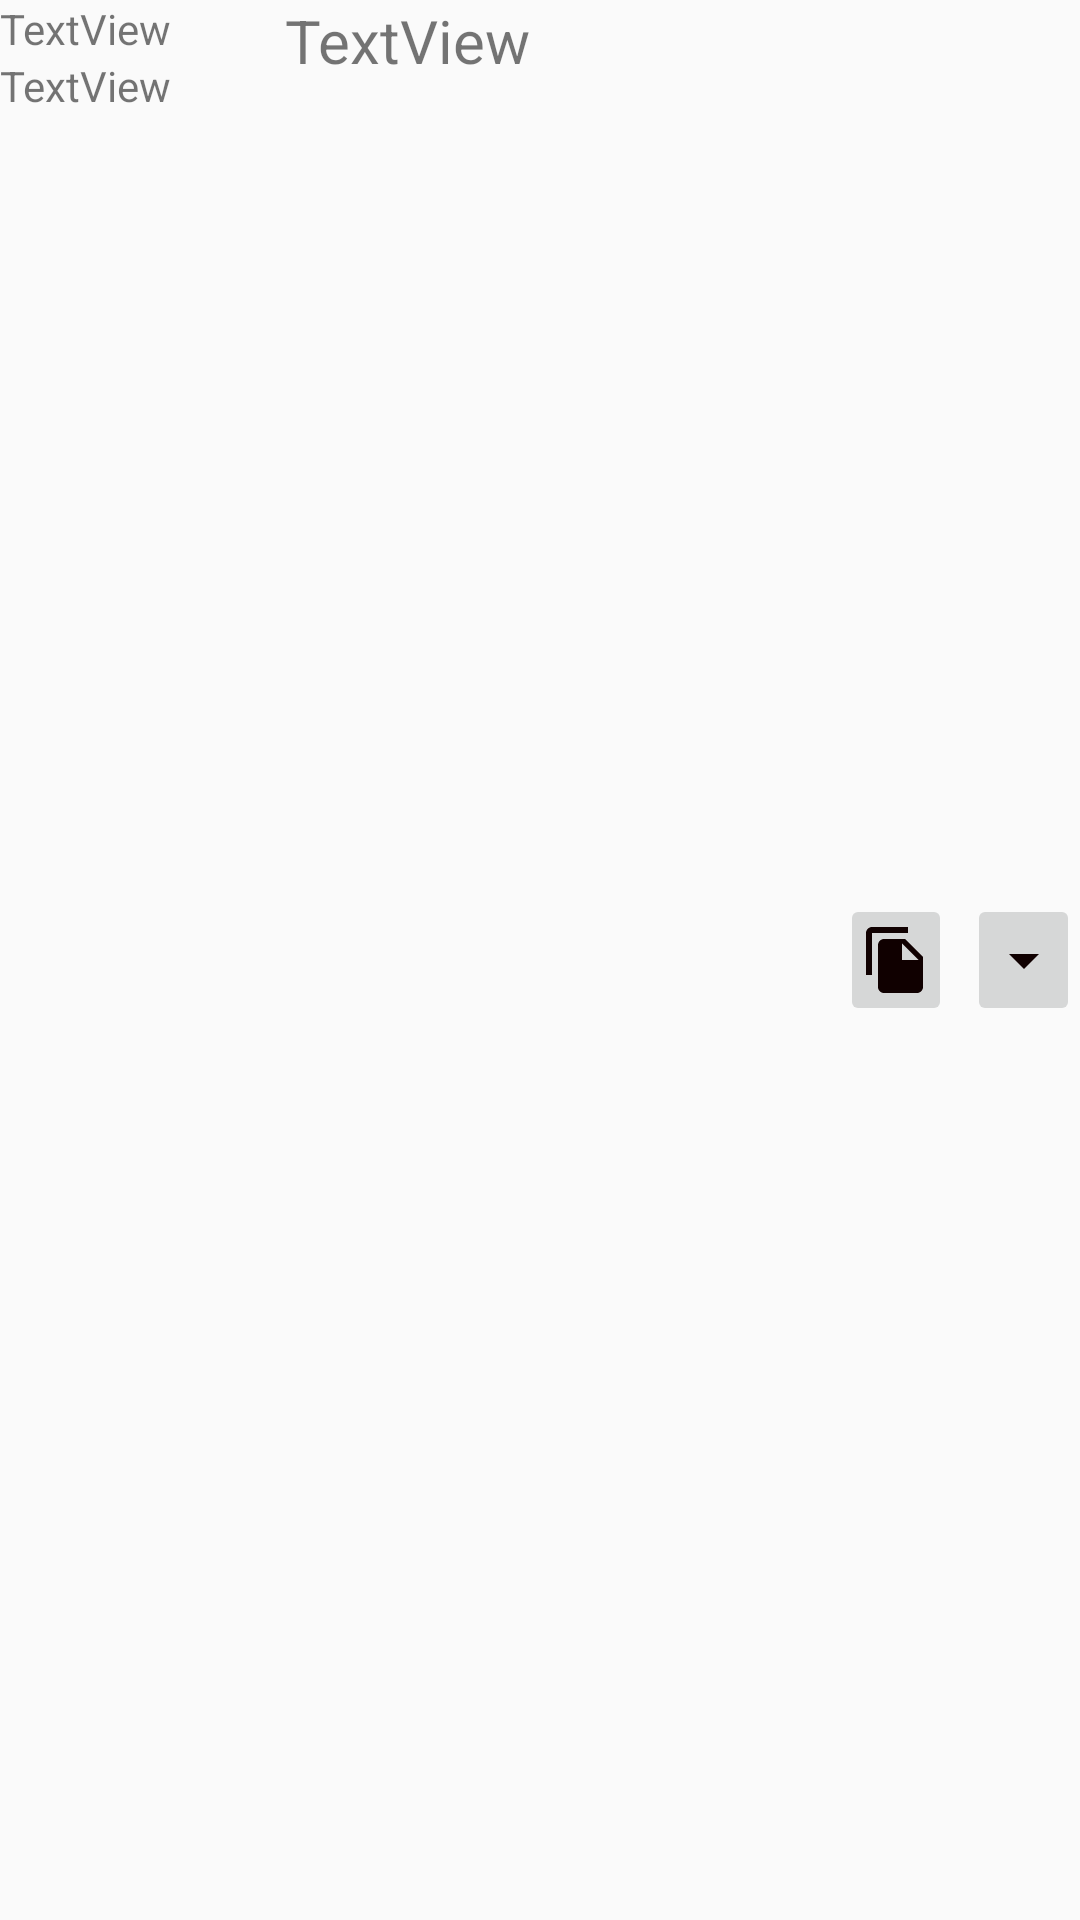

Icon click points for this 1080px×1920px phone screenshot, format (x,y):
arrow drop down: (1023,960)
file: (896,960)
